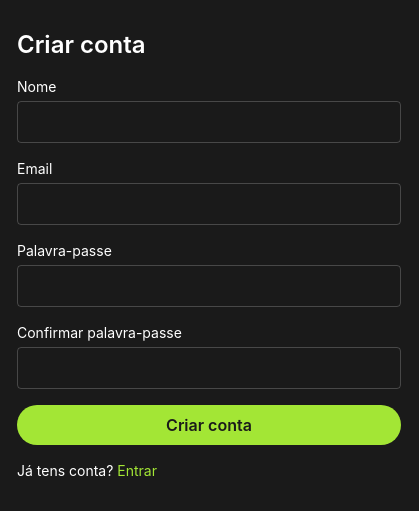
Test: RegisterPage › shows a translated message on a network failure
Type "Lucas" into the field labelled "Nome". click: (209, 122)
box: [17,101,401,143]
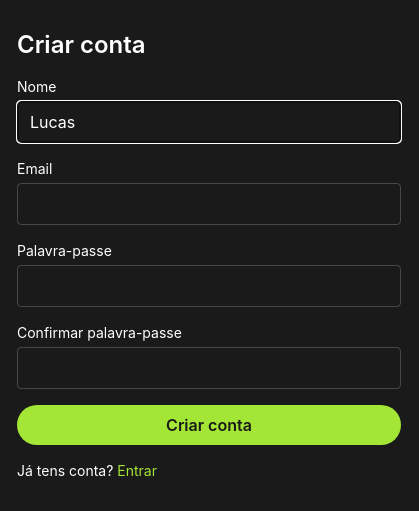
Type "l@e.com" into the field labelled "Email". click: (209, 204)
box: [17,183,401,225]
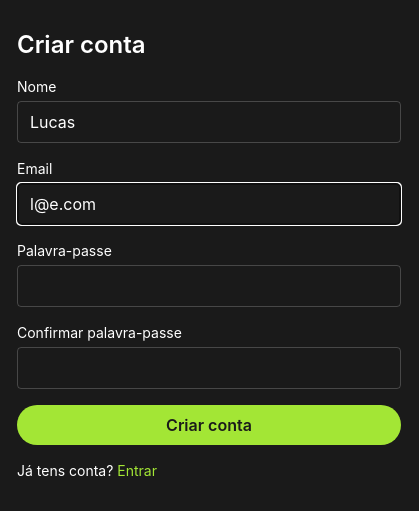
Type "secret123" into the password field labelled "Palavra-passe". click: (209, 286)
box: [17,265,401,307]
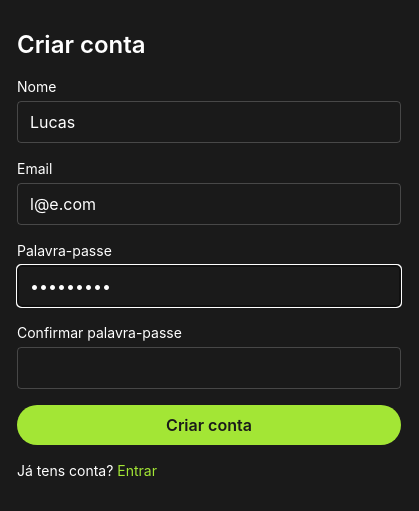
Type "secret123" into the password field labelled "Confirmar palavra-passe". click: (209, 368)
box: [17,347,401,389]
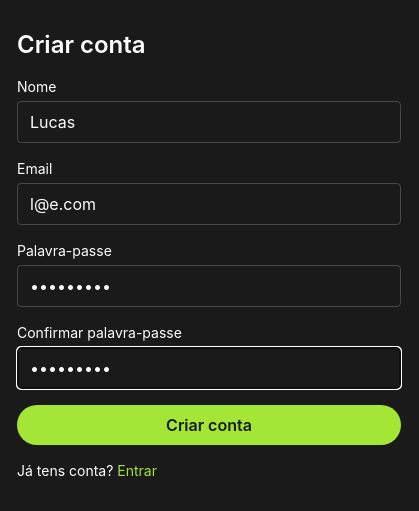
Click the button "Criar conta". click: (209, 425)
box: [17,405,401,445]
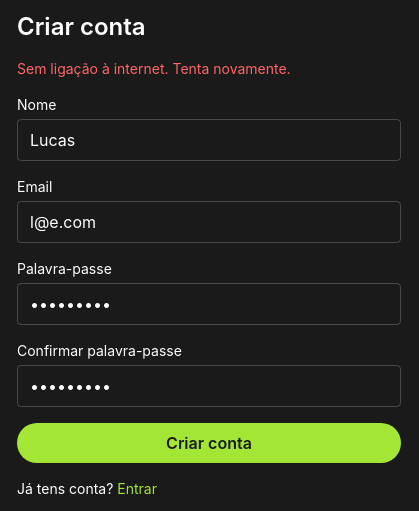
Now the text "Sem ligação à internet. Tenta novamente." is shown, box [17,60,291,77]
